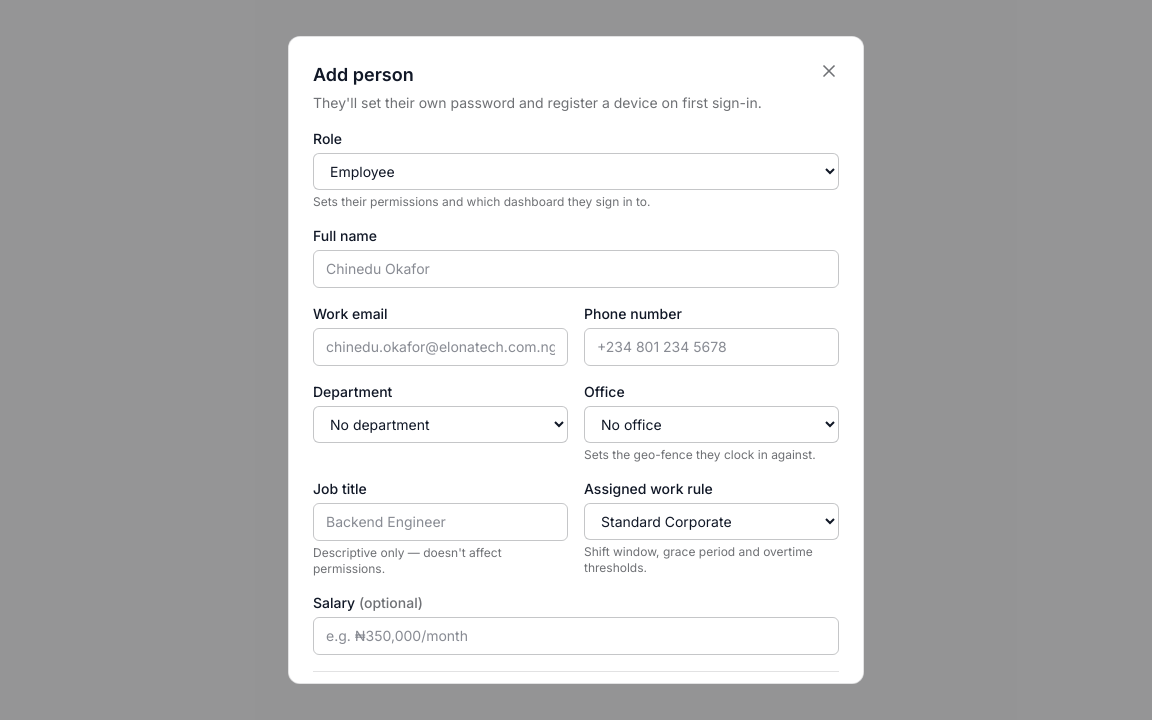
validation before anything is sent › refuses a name that is too short
Expected: the dropdown labelled "Role" is shown, [313,153,839,190]
Type "C" into the field labelled "Full name" at (576, 269), box [313,250,839,288]
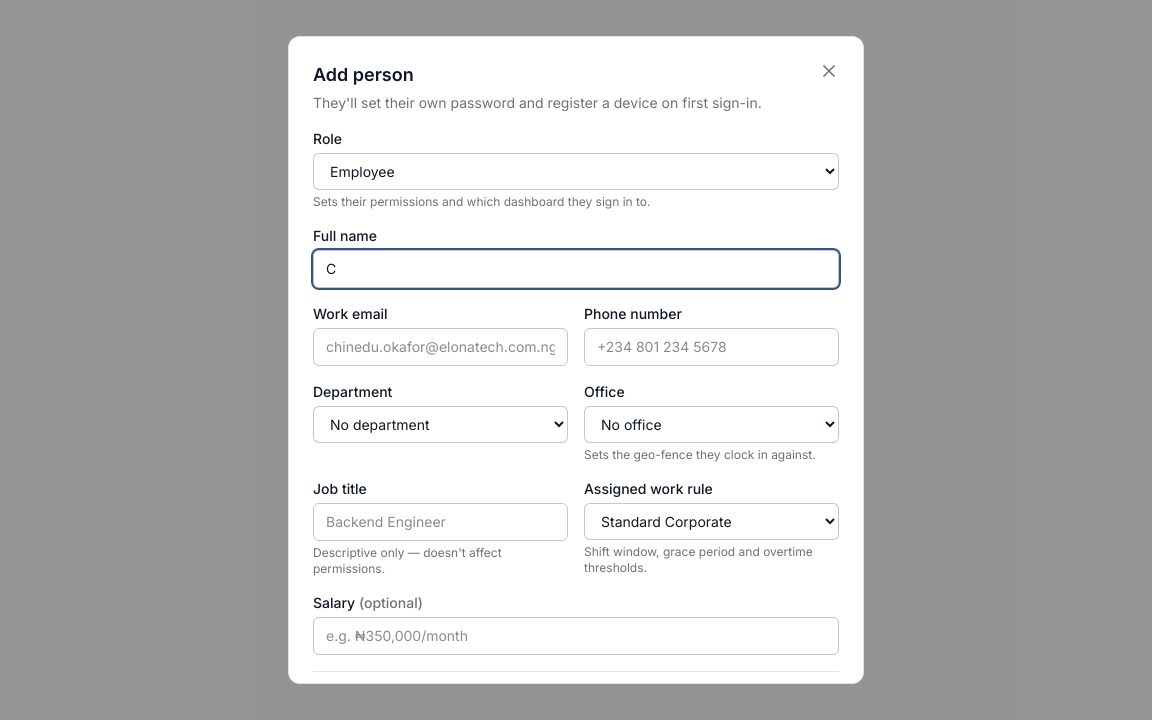
Type "c@example.com" into the field labelled "Work email" at (440, 347), box [313,328,568,366]
(page scrolled)
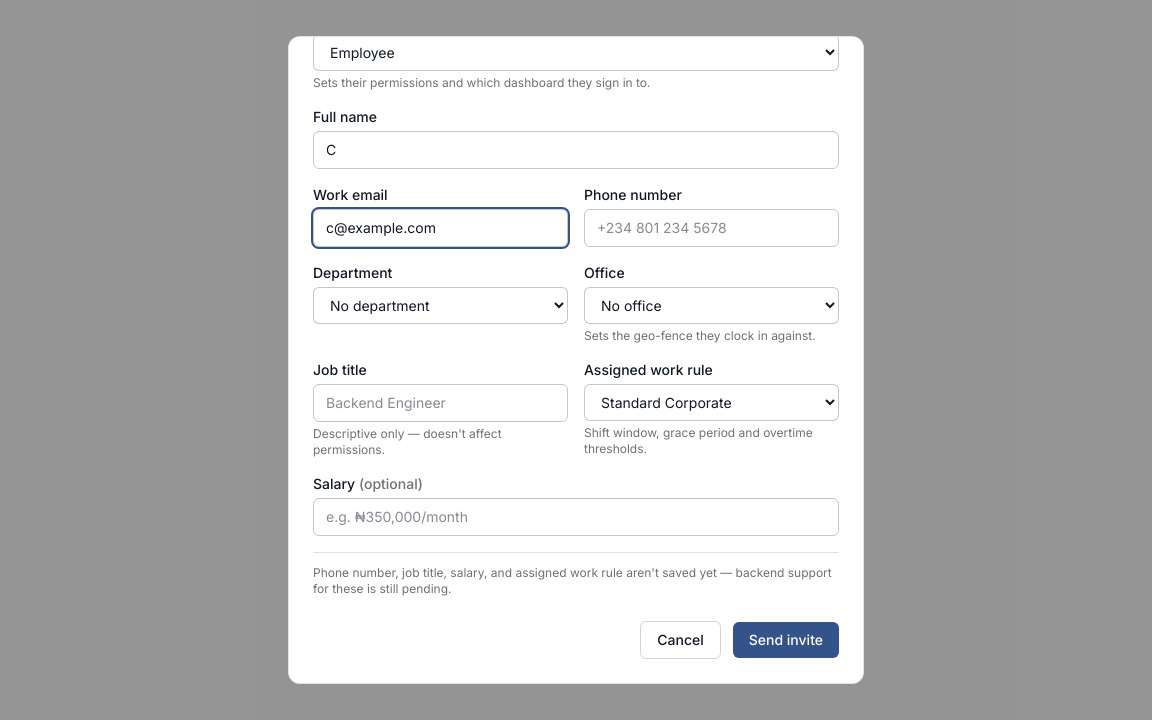
Click the button "Send invite" at (786, 640), box [733,622,839,658]
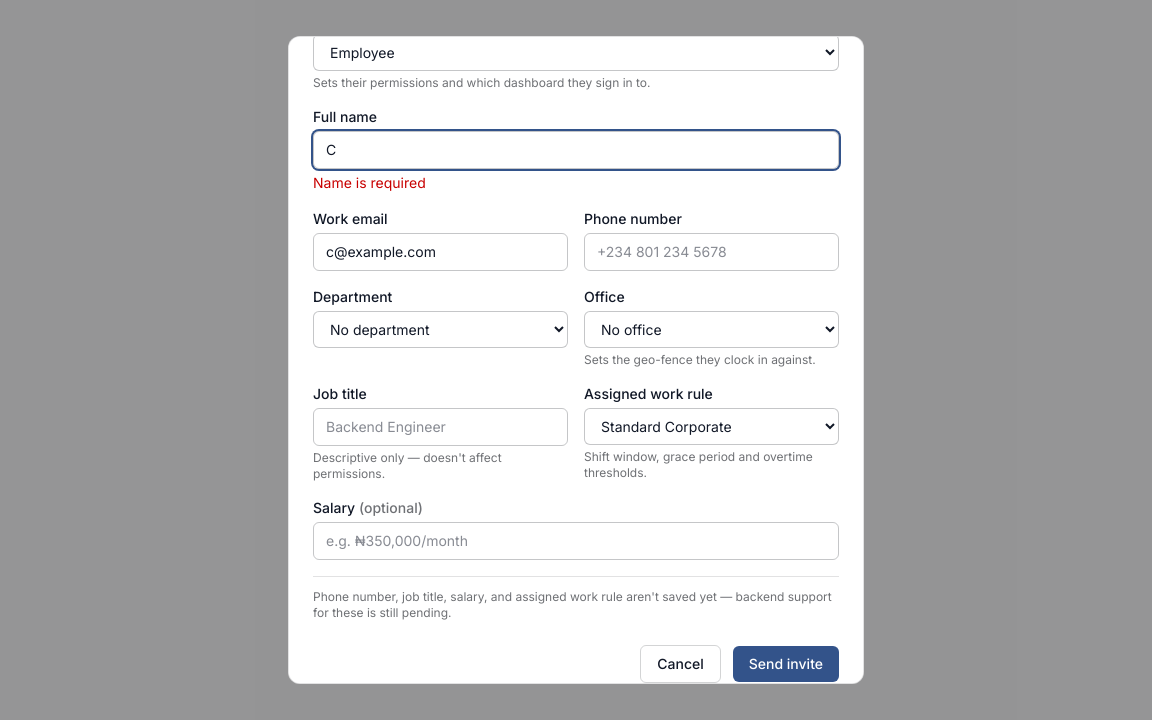
Expected: the text "Name is required" is shown, [313,174,426,191]
